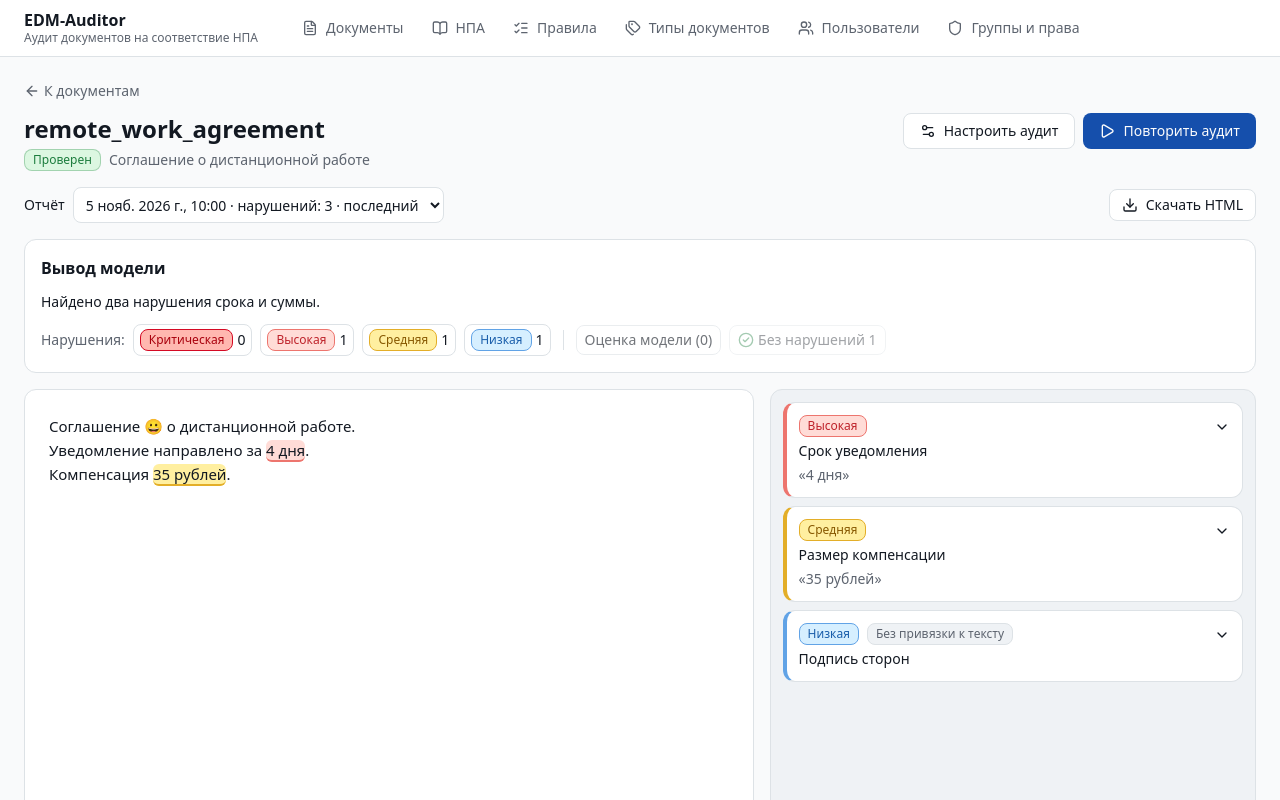
Test case: audit screen › keeps findings without a position in the list only
Click the button "Низкая Без привязки к тексту Подпись сторон".
click(1014, 646)  # box [787,611,1242,681]
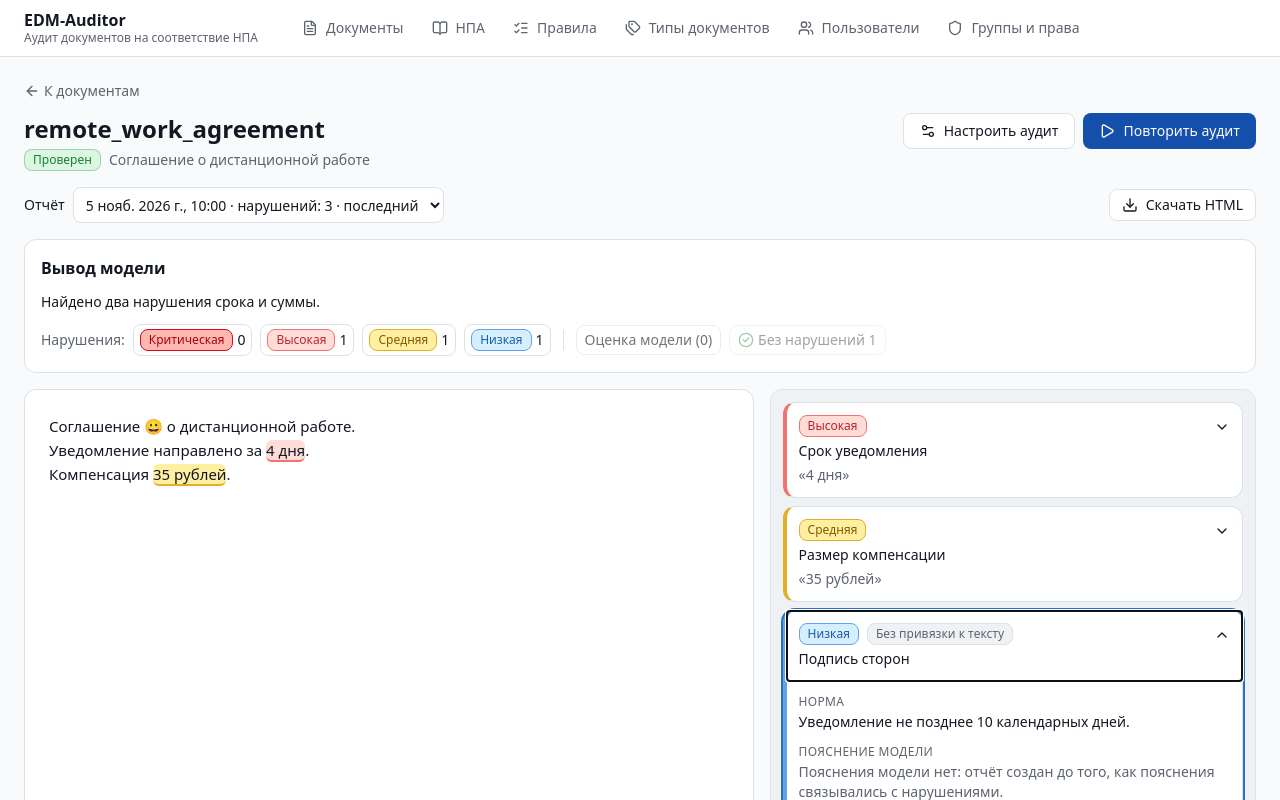
Expected: the text "Пояснения модели нет" is shown, [799,762,1218,799]
